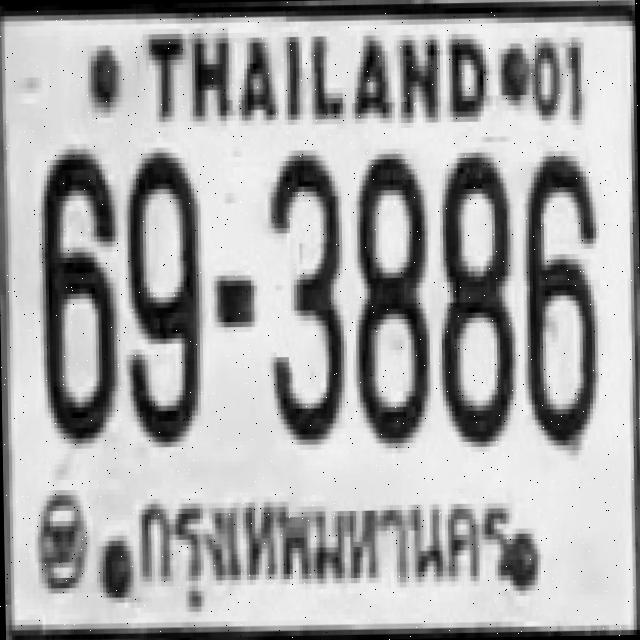3: (264, 150, 344, 440)
6: (520, 150, 600, 446), (36, 146, 116, 441)
8: (434, 147, 514, 442), (349, 148, 428, 438)
9: (122, 147, 202, 442)
Bangkok: (130, 476, 511, 620)
